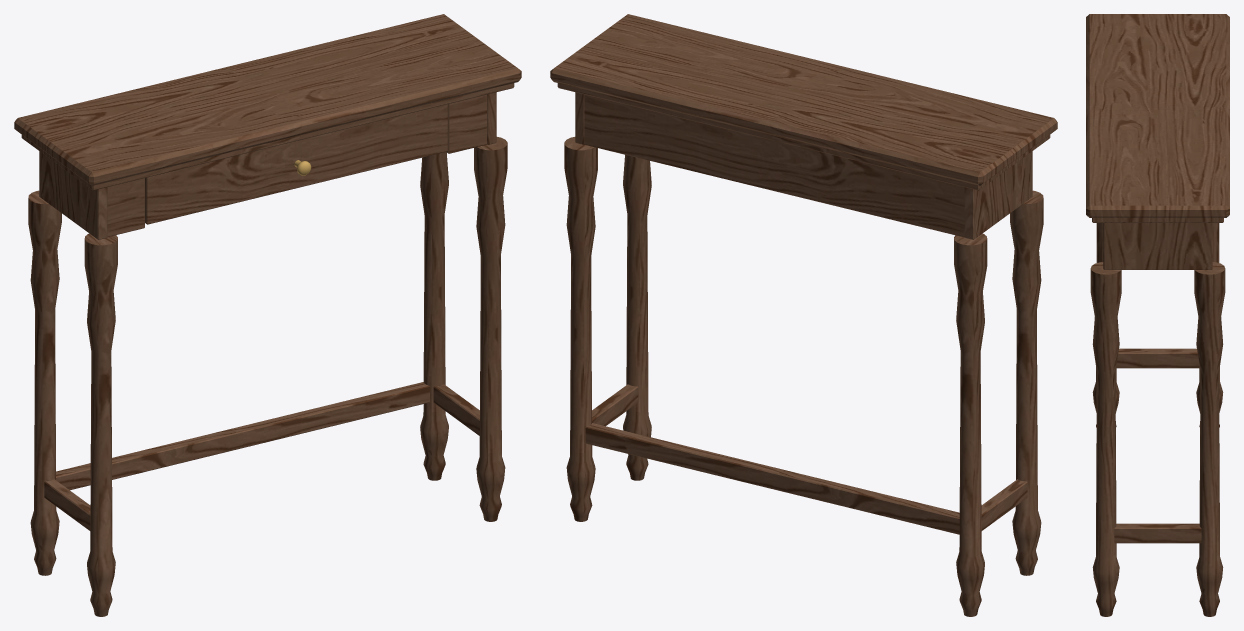
The model's file is consola_estrecha_80.glb.
The picture shows the model from 3 angles, left to right: view 1: azimuth 30°, elevation 25°; view 2: azimuth 150°, elevation 25°; view 3: azimuth 270°, elevation 25°; orthographic projection. The views are drawn at different scales.
Visible parts, largest first — view 1: consola_estrecha_80; view 2: consola_estrecha_80; view 3: consola_estrecha_80.
Part boxes in pixels (x1=…): consola_estrecha_80: x1=14, y1=14, x2=521, y2=616; consola_estrecha_80: x1=550, y1=14, x2=1057, y2=616; consola_estrecha_80: x1=1086, y1=14, x2=1229, y2=616.
Size of the model in its own units: 0.8 by 0.8 by 0.25.
Materials: 2 (1 with a texture image).
